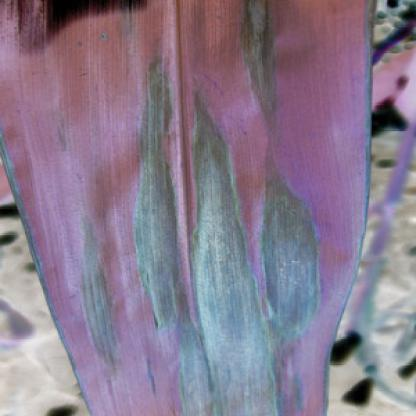Corn leaf blight: (7, 12, 415, 277)
